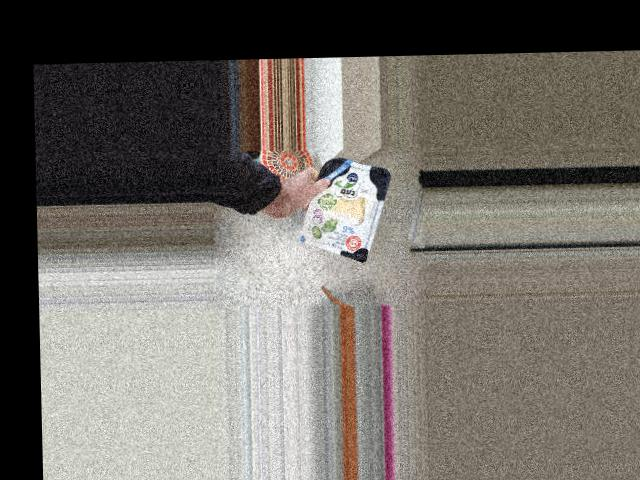cheese: (299, 155, 393, 264)
